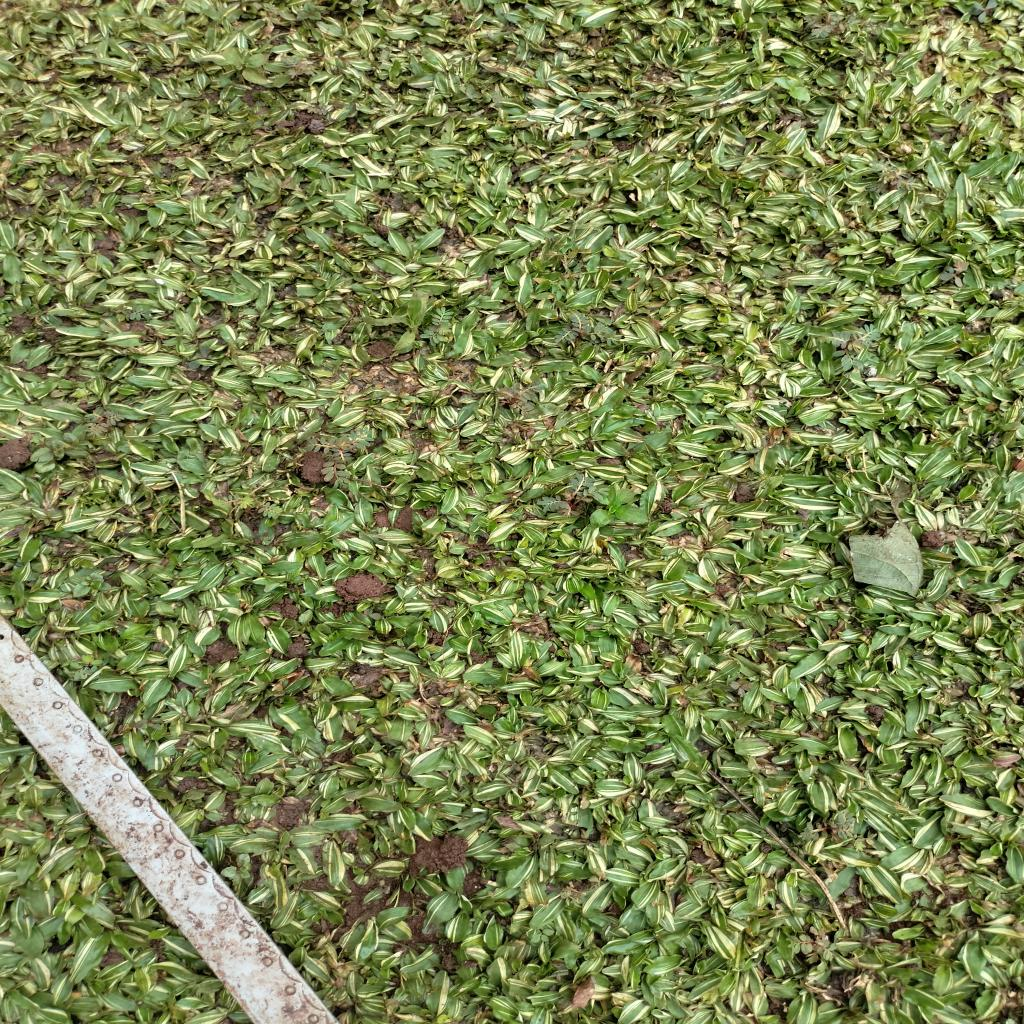buah daun: (295, 431, 375, 485), (797, 806, 879, 854), (538, 469, 610, 519), (548, 304, 616, 354), (783, 922, 851, 971), (820, 324, 885, 373), (865, 156, 918, 194), (494, 381, 550, 413), (800, 8, 849, 43), (83, 405, 125, 445), (418, 302, 456, 346), (226, 491, 285, 519), (282, 55, 320, 80), (118, 301, 154, 326), (940, 259, 970, 288), (971, 1, 1001, 24)
rambat atas: (555, 236, 577, 272), (580, 250, 604, 275)
tunggang besar: (222, 49, 276, 88), (775, 72, 814, 104)
ungu tunggang: (28, 432, 90, 473), (69, 570, 115, 598), (294, 0, 328, 23)
